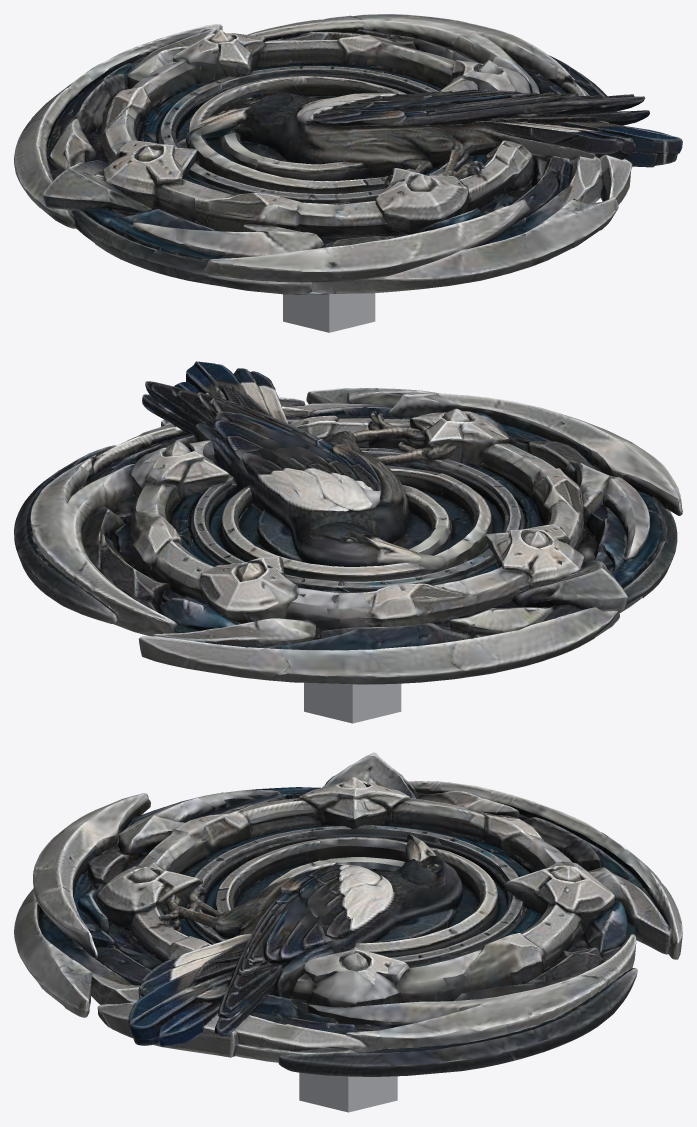
Rendered from magpie.glb.
3 views of the same model, one above another, from view 1: azimuth 30°, elevation 25°; view 2: azimuth 150°, elevation 25°; view 3: azimuth 270°, elevation 25° (orthographic). The views are drawn at different scales.
Parts seen in each view (by area): view 1: mesh_node; view 2: mesh_node; view 3: mesh_node.
Boxes of the visible parts, x1,y1,x2,y2 form: mesh_node: (14,14,682,332); mesh_node: (14,361,682,723); mesh_node: (14,752,682,1112).
Size of the model in its own units: 17.76 by 4.09 by 17.67.
2 materials, 1 textured.
